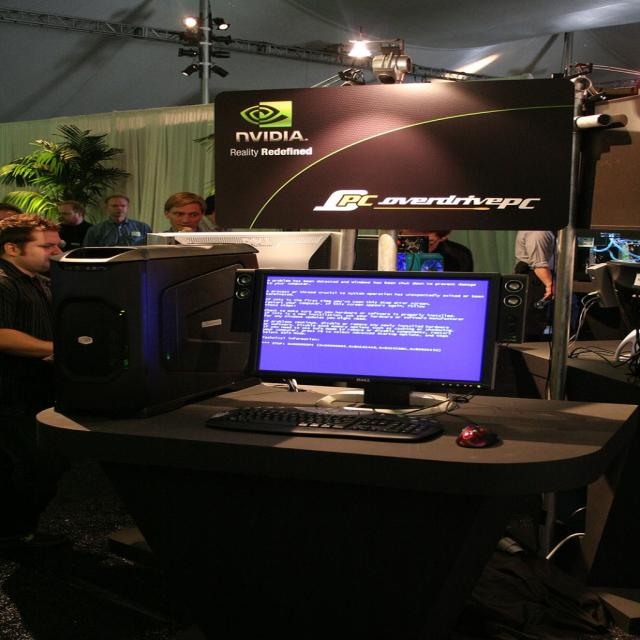nvidia: (241, 102, 293, 129)
